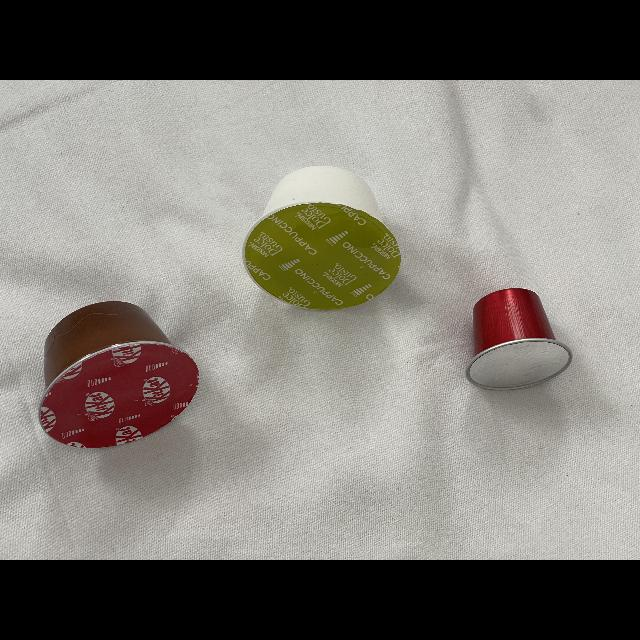intact_capsule: (36, 296, 204, 472), (237, 158, 411, 320), (460, 282, 582, 403)
